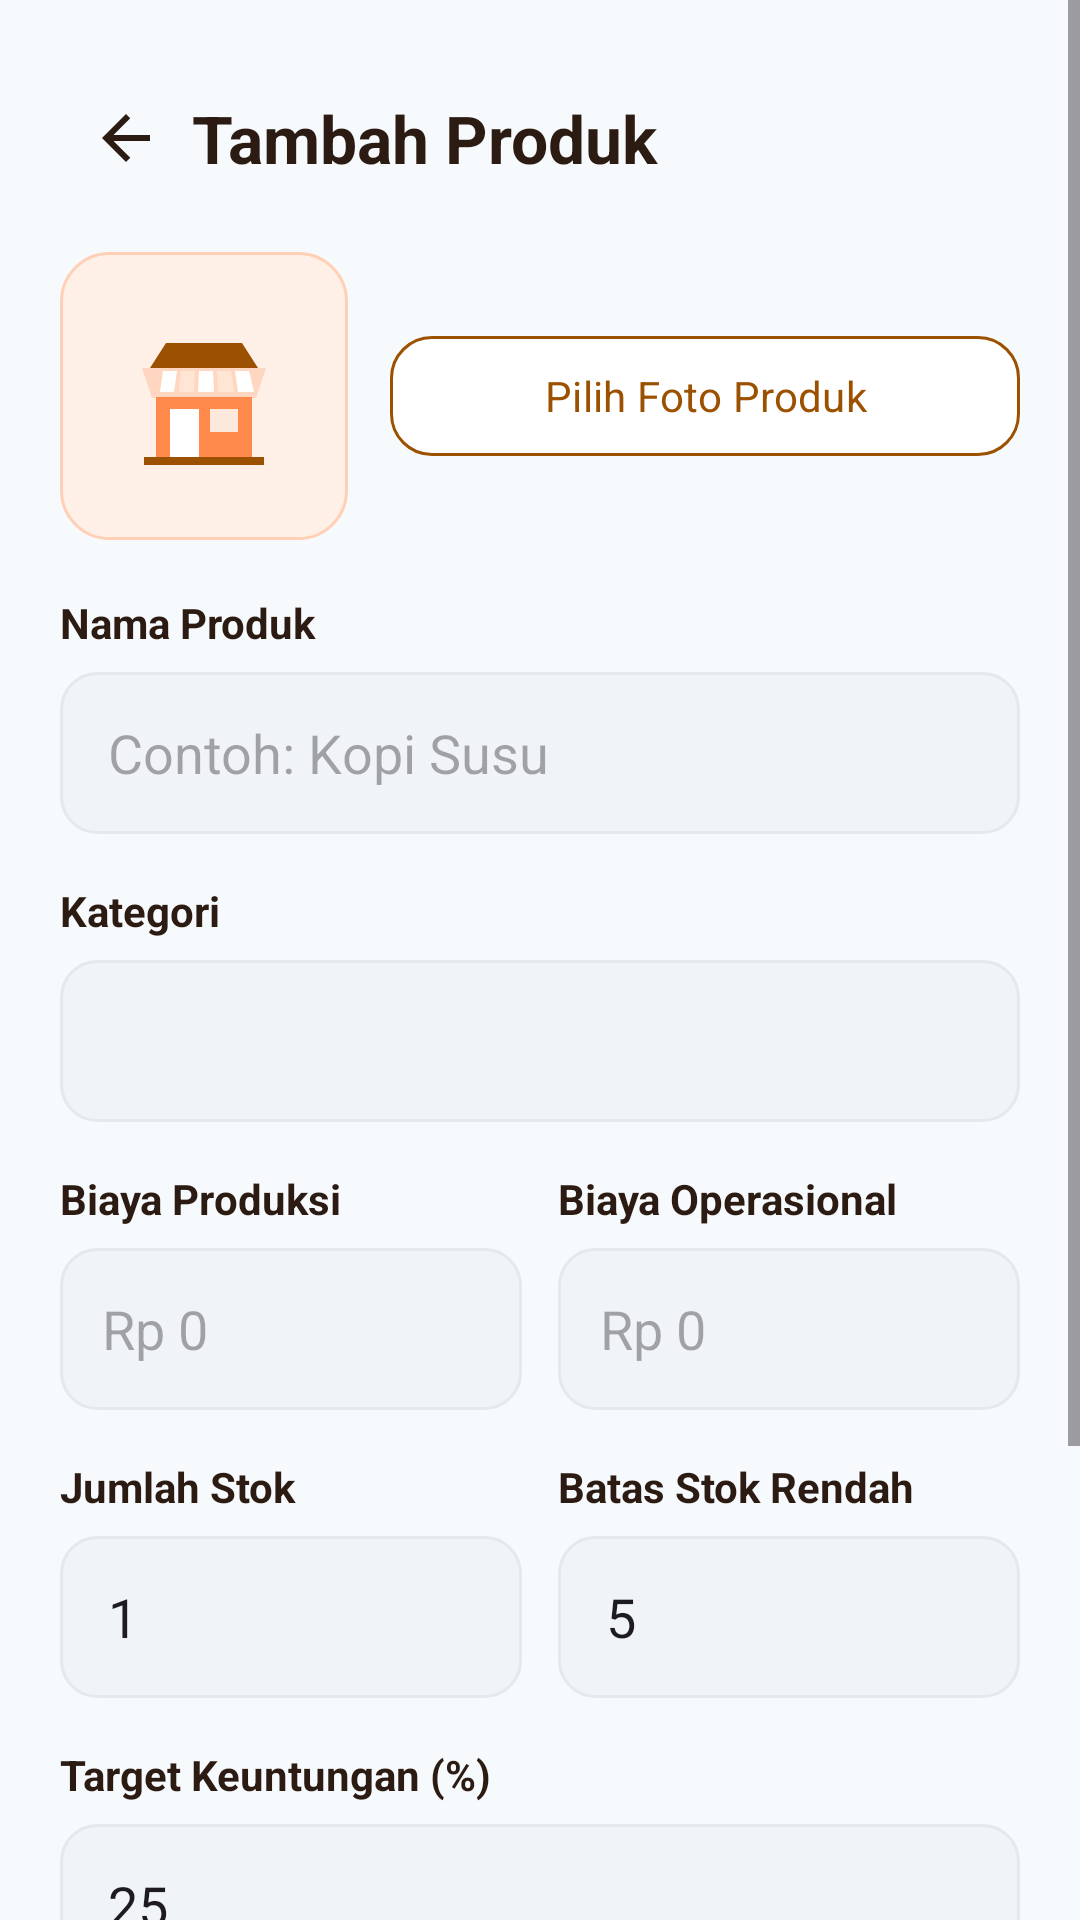

Icon bounding boxes for this 1080 × 1920 phone screenshot, format (x1, y1, x2, y2):
Kembali: (102, 114, 150, 162)
